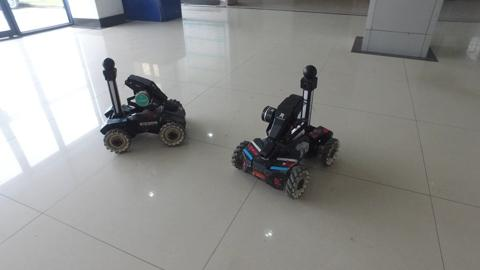chariot: (228, 62, 350, 203), (94, 53, 191, 161)
